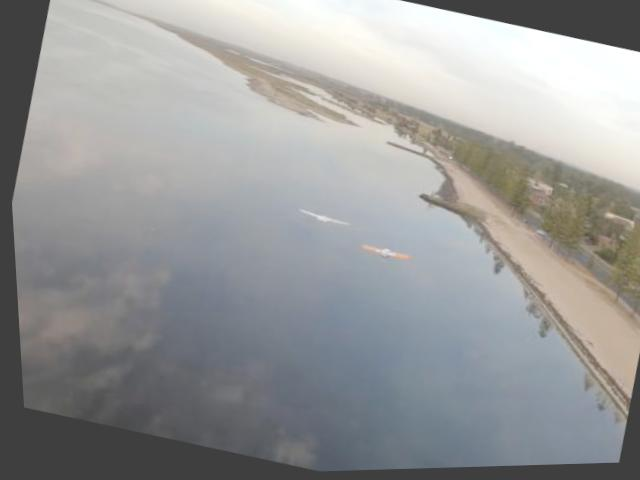uav: (292, 203, 351, 236), (356, 238, 410, 269)
